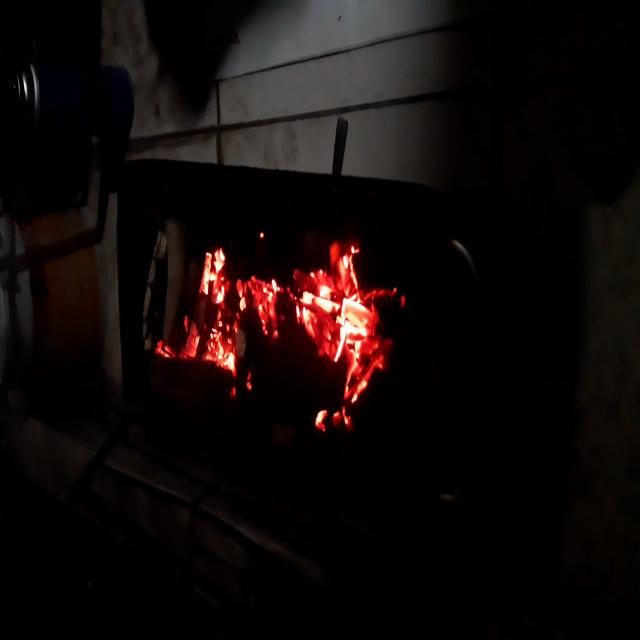Fire: (143, 227, 417, 435)
